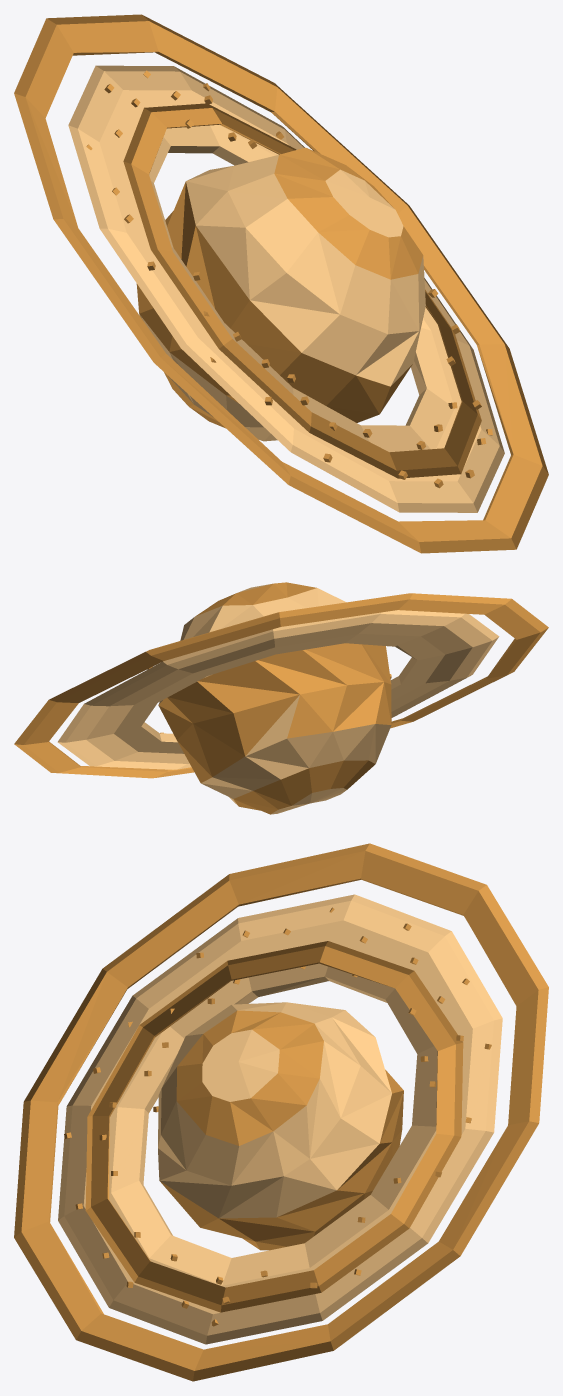
Rendered from saturn.glb.
3 renders of one model, top to bottom at view 1: azimuth 30°, elevation 25°; view 2: azimuth 150°, elevation 25°; view 3: azimuth 270°, elevation 25°, orthographic. The views are drawn at different scales.
Parts seen in each view (by area): view 1: Node; view 2: Node; view 3: Node.
Boxes of the visible parts, x1,y1,x2,y2 form: Node: (14,14,548,553); Node: (14,582,548,814); Node: (14,843,548,1381).
Size of the model in its own units: 1.66 by 1.27 by 1.72.
